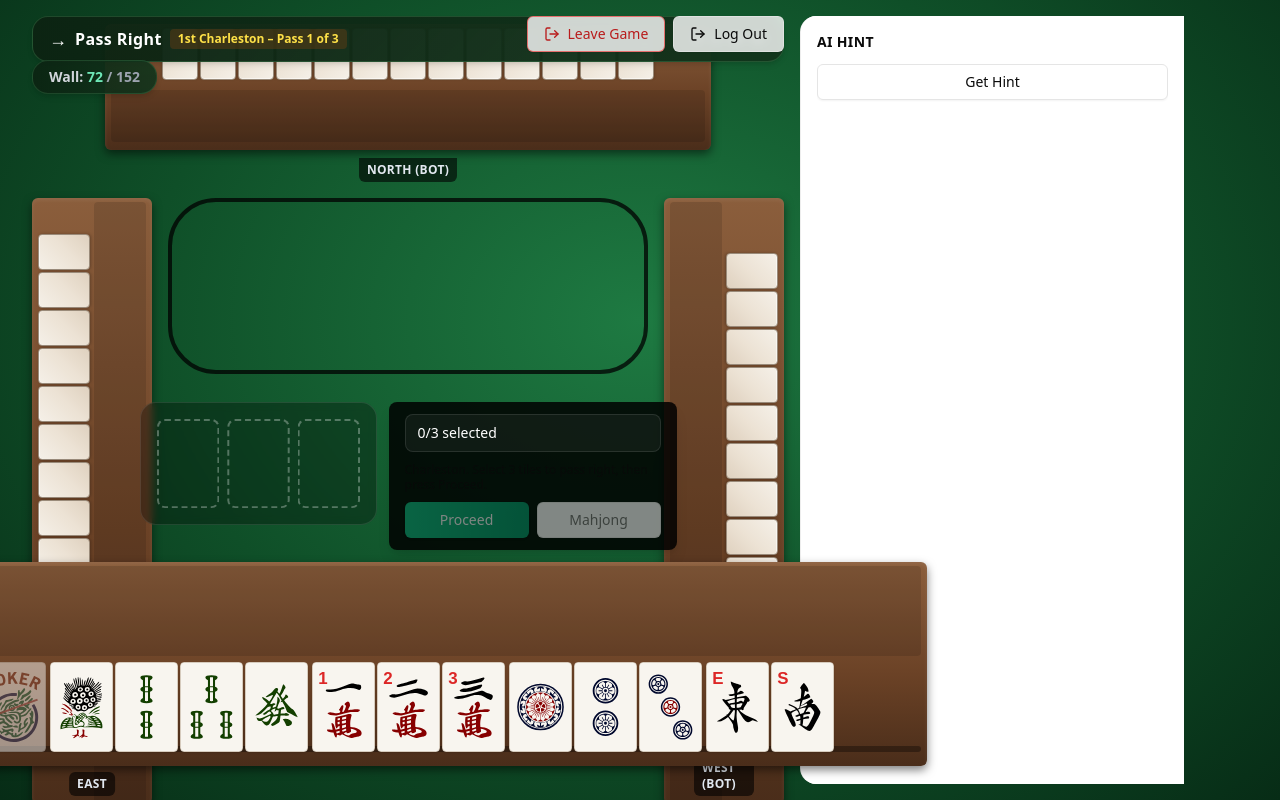
Test case: US-055: Right Rail Hint Flow (Integration) › requests and renders a Charleston hint with both pass recommendations and pattern guidance
The width and height of the screenshot is (1280, 800).
Expected: the element with test id "right-rail-hint-section" is shown, [817,32,1168,100]
Click the button with test id "get-hint-button" at (992, 82), box [817,64,1168,100]
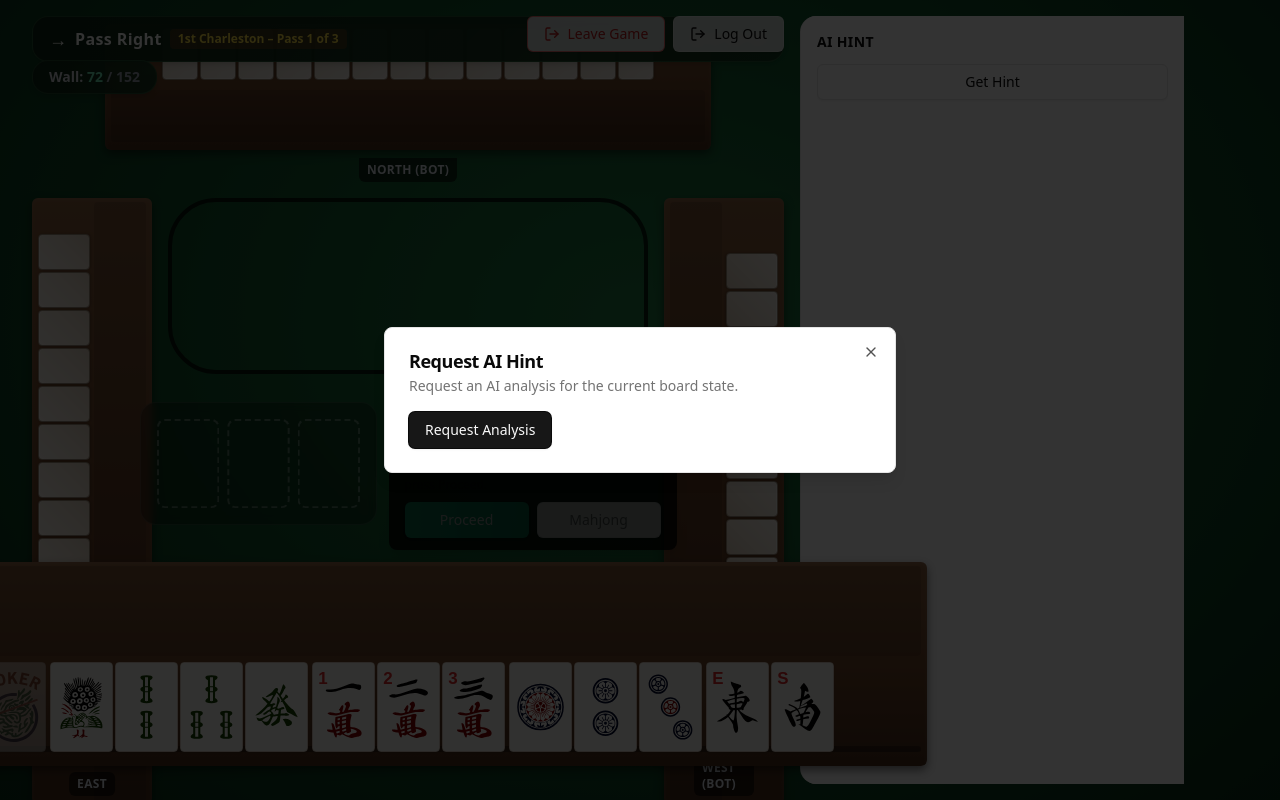
Expected: the dialog with test id "hint-request-dialog" is shown, [384,327,896,473]
Click the button with test id "request-analysis-button" at (480, 430), box [409,412,551,448]
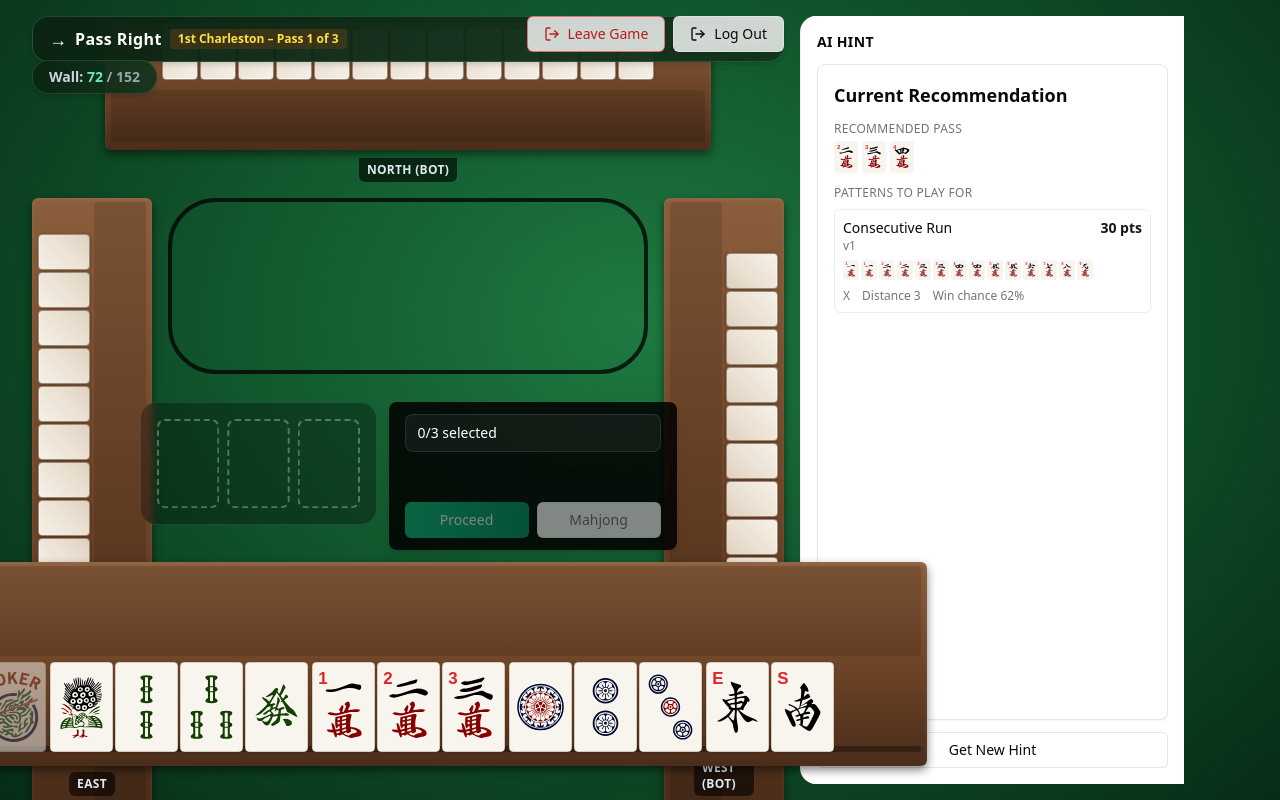
Expected: the element with test id "hint-panel" is shown, [817,64,1168,720]
Expected: the element with test id "hint-charleston-pass-recommendations" is shown, [834,120,962,173]
Expected: the element with test id "hint-best-patterns" is shown, [834,185,1151,313]
